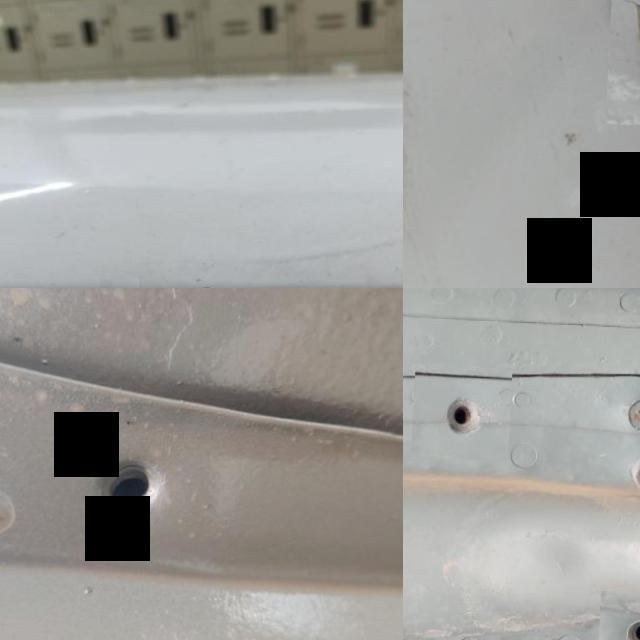Crack: (182, 277, 284, 288), (102, 276, 142, 288)
Missing_Fastener: (41, 397, 209, 560), (414, 369, 514, 460), (611, 434, 640, 513), (602, 589, 640, 640)
